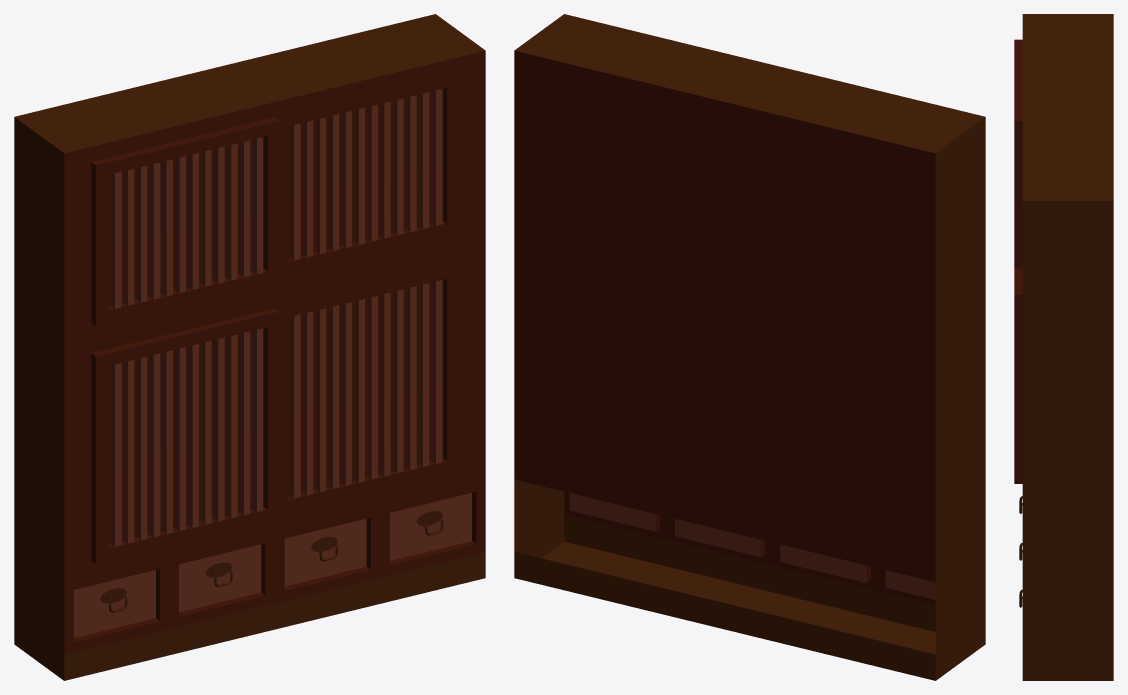
File: SM_TansuDarkRed_01.fbx
3 views of the same model, side by side, from view 1: azimuth 30°, elevation 25°; view 2: azimuth 150°, elevation 25°; view 3: azimuth 270°, elevation 25° (orthographic). The views are drawn at different scales.
Parts seen in each view (by area): view 1: SM_TansuDarkRed_01; view 2: SM_TansuDarkRed_01; view 3: SM_TansuDarkRed_01.
Part boxes in pixels (box(x1,y1,x2,y2)): SM_TansuDarkRed_01: box(14, 14, 485, 680); SM_TansuDarkRed_01: box(514, 14, 985, 680); SM_TansuDarkRed_01: box(1014, 14, 1113, 680).
Bounding box in the file's own units: 159 × 191 × 35.88.
